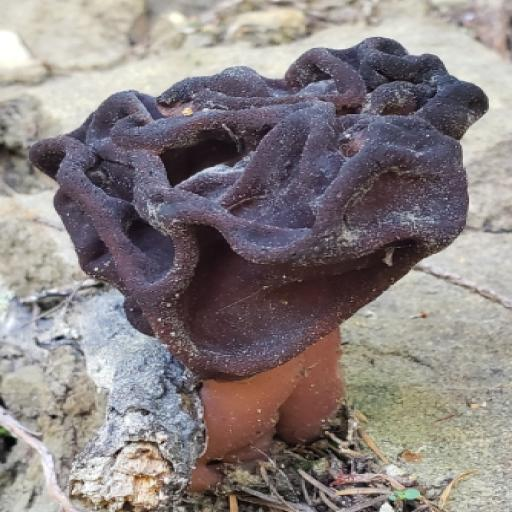False Morel: (31, 16, 512, 481)
